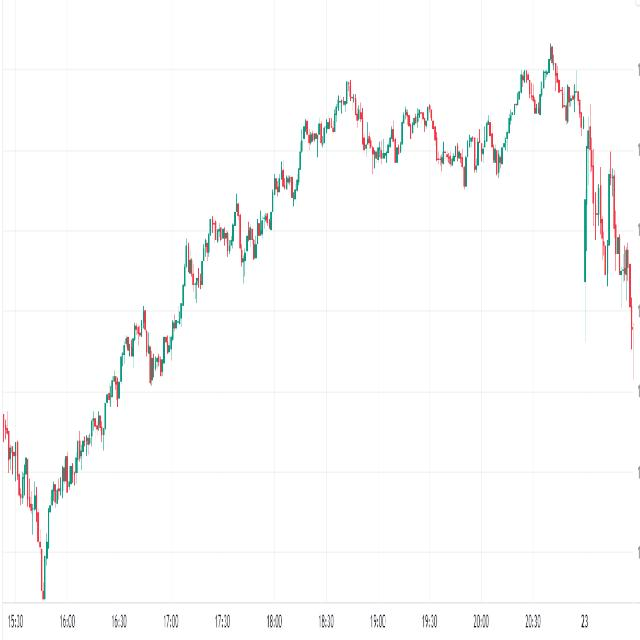Channel-up: (31, 34, 380, 563)
